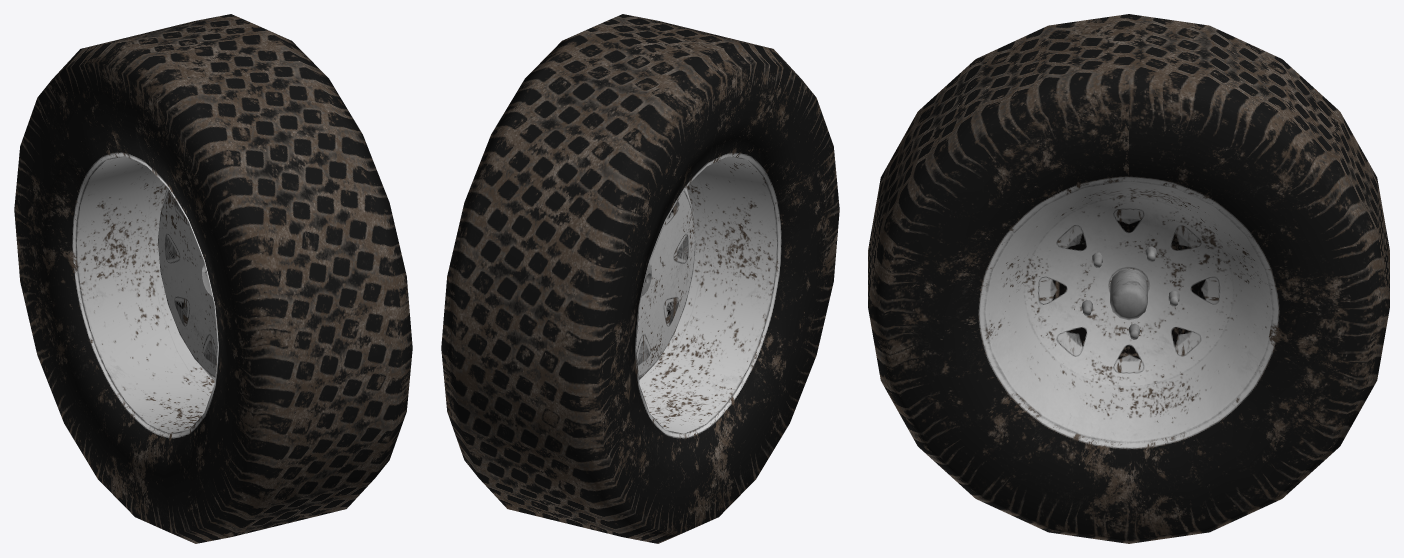
Rendered from dunebuggy-tire.gltf.
3 views of the same model, side by side, from view 1: azimuth 30°, elevation 25°; view 2: azimuth 150°, elevation 25°; view 3: azimuth 270°, elevation 25° (orthographic).
Visible parts, largest first — view 1: Tire; view 2: Tire; view 3: Tire.
Part boxes in pixels (box(x1,y1,x2,y2)): Tire: box(14, 14, 412, 543); Tire: box(441, 14, 839, 543); Tire: box(868, 14, 1389, 543).
Bounding box in the file's own units: 0.3468 × 0.9864 × 0.9864.
1 material, 1 textured.
